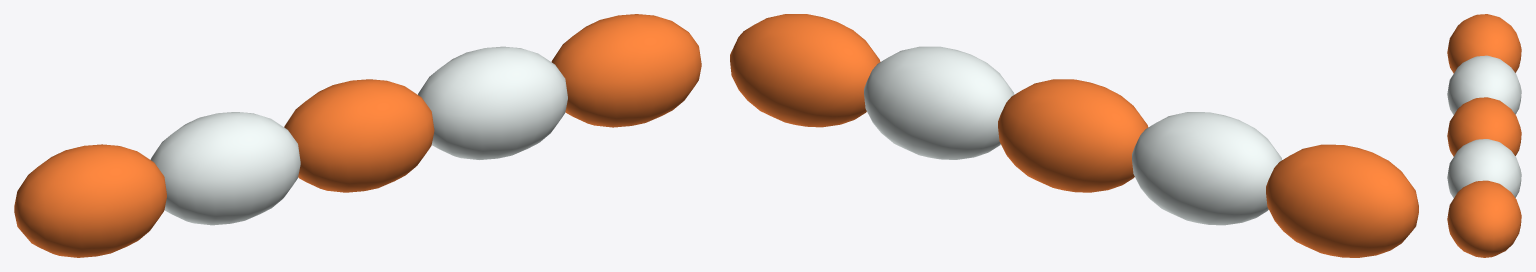
Rendered from Floating_barrier_LOD1.glb.
The picture shows the model from 3 angles, left to right: view 1: azimuth 30°, elevation 25°; view 2: azimuth 150°, elevation 25°; view 3: azimuth 270°, elevation 25°; orthographic projection. The views are drawn at different scales.
Visible parts, largest first — view 1: Floating segment, Floating segment.002, Floating segment.004, Floating segment.001, Floating segment.003; view 2: Floating segment, Floating segment.002, Floating segment.003, Floating segment.001, Floating segment.004; view 3: Floating segment.004, Floating segment, Floating segment.002, Floating segment.003, Floating segment.001.
Part boxes in pixels (x1=…): Floating segment: x1=14, y1=144, x2=166, y2=257; Floating segment.002: x1=284, y1=79, x2=434, y2=192; Floating segment.004: x1=551, y1=14, x2=701, y2=127; Floating segment.001: x1=150, y1=112, x2=300, y2=225; Floating segment.003: x1=418, y1=46, x2=567, y2=159; Floating segment: x1=1266, y1=144, x2=1418, y2=257; Floating segment.002: x1=998, y1=79, x2=1148, y2=192; Floating segment.003: x1=864, y1=46, x2=1014, y2=159; Floating segment.001: x1=1132, y1=112, x2=1281, y2=225; Floating segment.004: x1=730, y1=14, x2=880, y2=127; Floating segment.004: x1=1447, y1=180, x2=1521, y2=257; Floating segment: x1=1447, y1=14, x2=1521, y2=73; Floating segment.002: x1=1447, y1=97, x2=1521, y2=156; Floating segment.003: x1=1447, y1=139, x2=1521, y2=198; Floating segment.001: x1=1447, y1=55, x2=1521, y2=114.
Size of the model in its own units: 2.28 by 0.32 by 0.34.
